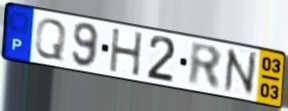2: (145, 34, 178, 86)
9: (71, 22, 101, 70)
H: (108, 27, 145, 78)
N: (222, 46, 258, 97)
Q: (32, 17, 69, 62)
R: (188, 40, 224, 92)
